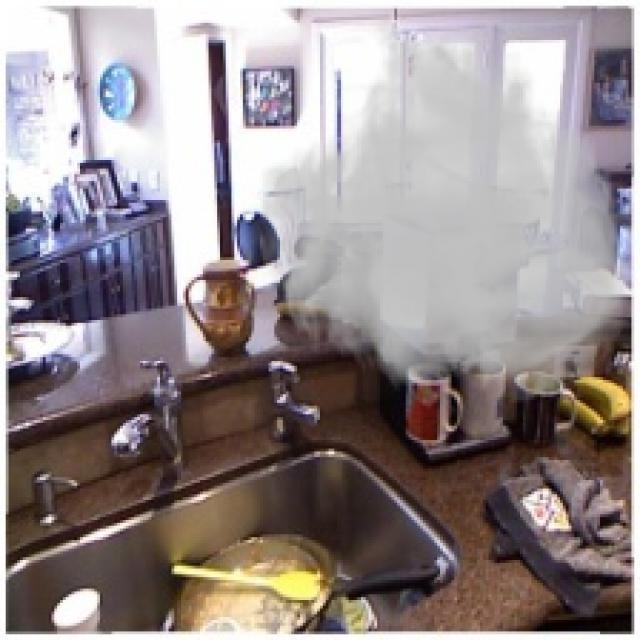Smoke: (254, 14, 637, 406)
